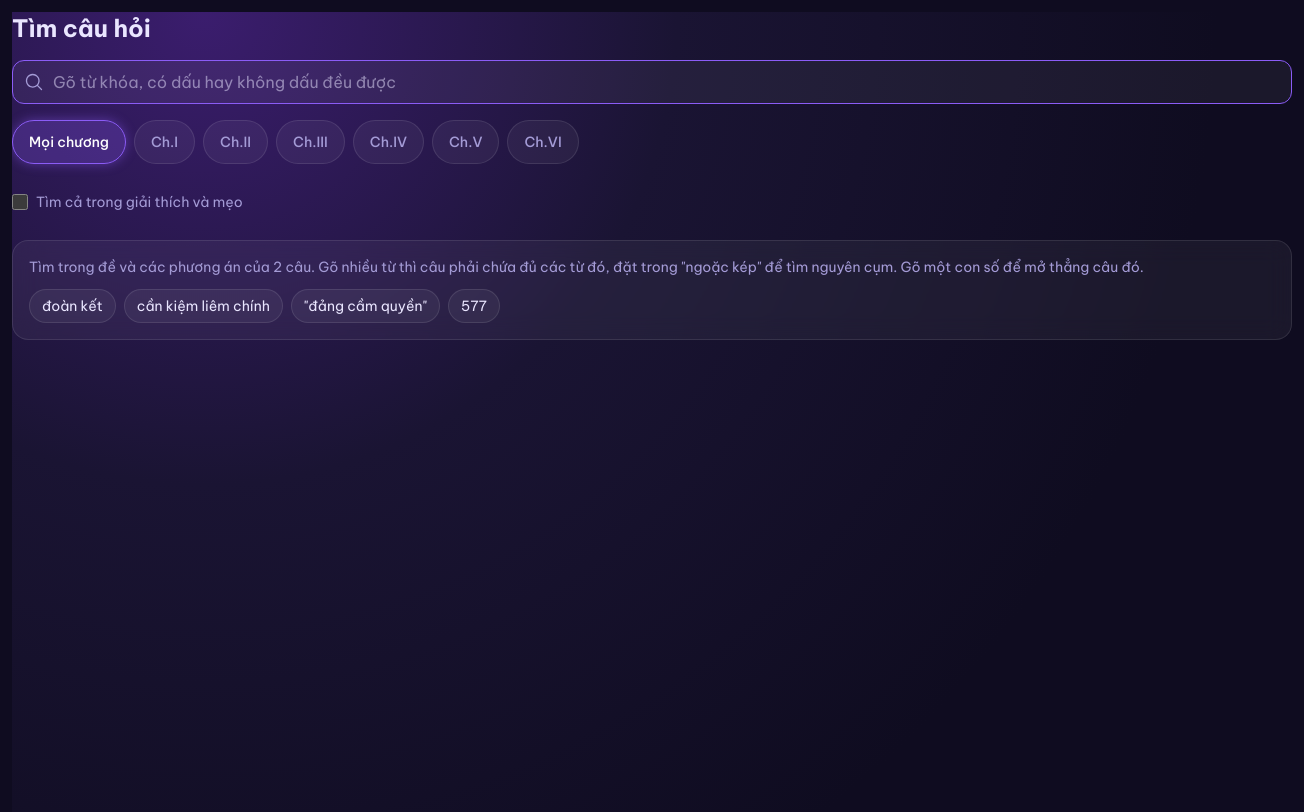
Test: tìm không dấu, hiện đáp án đúng, mở giải thích, nhảy sang câu dễ nhầm
The width and height of the screenshot is (1304, 812).
In the search field named "Từ khóa tìm kiếm": (652, 82) [12,60,1292,104], type "doan ket"
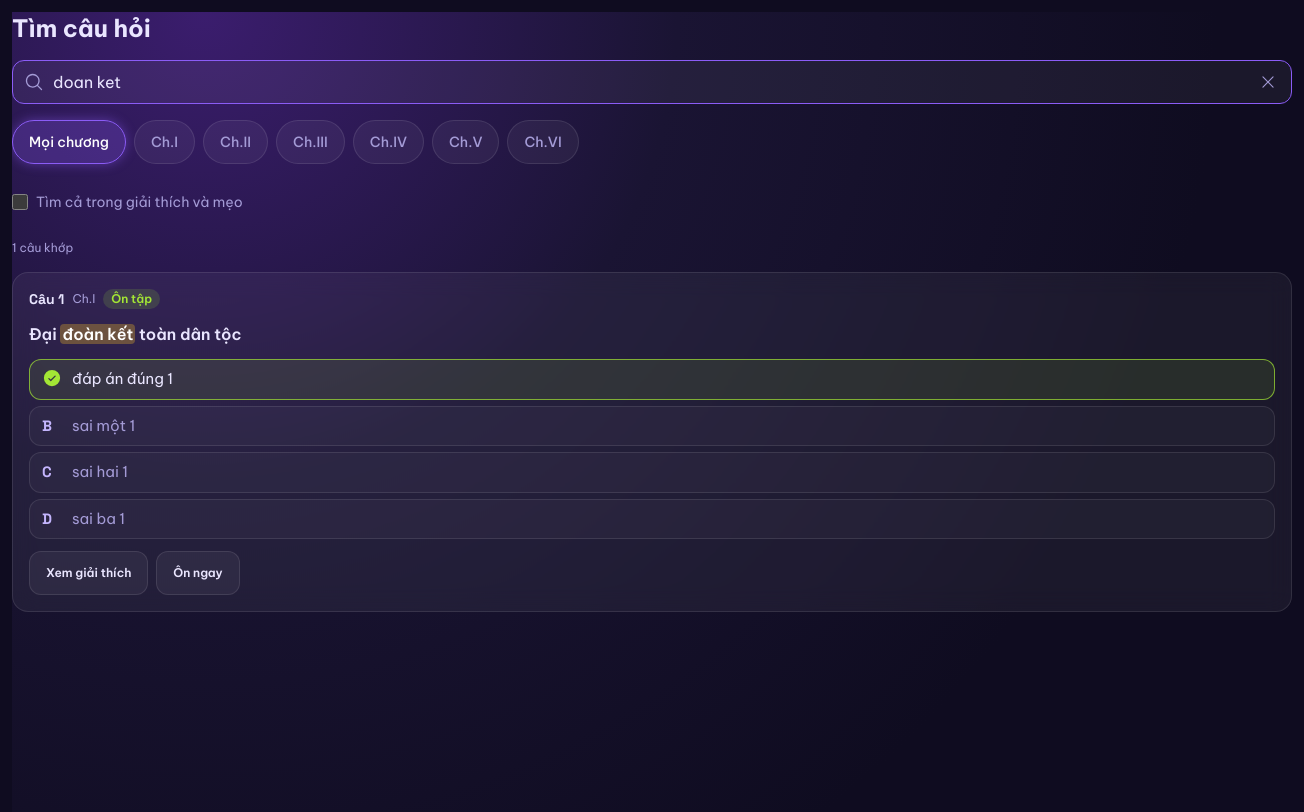
Expected: the text "đoàn kết" is shown, [60,324,135,344]
Expected: the text "1 câu khớp" is shown, [12,240,73,255]
Expected: the icon named "Đáp án đúng" is shown, [42,368,62,388]
Click the button "Xem giải thích": (89, 573) [29,551,148,595]
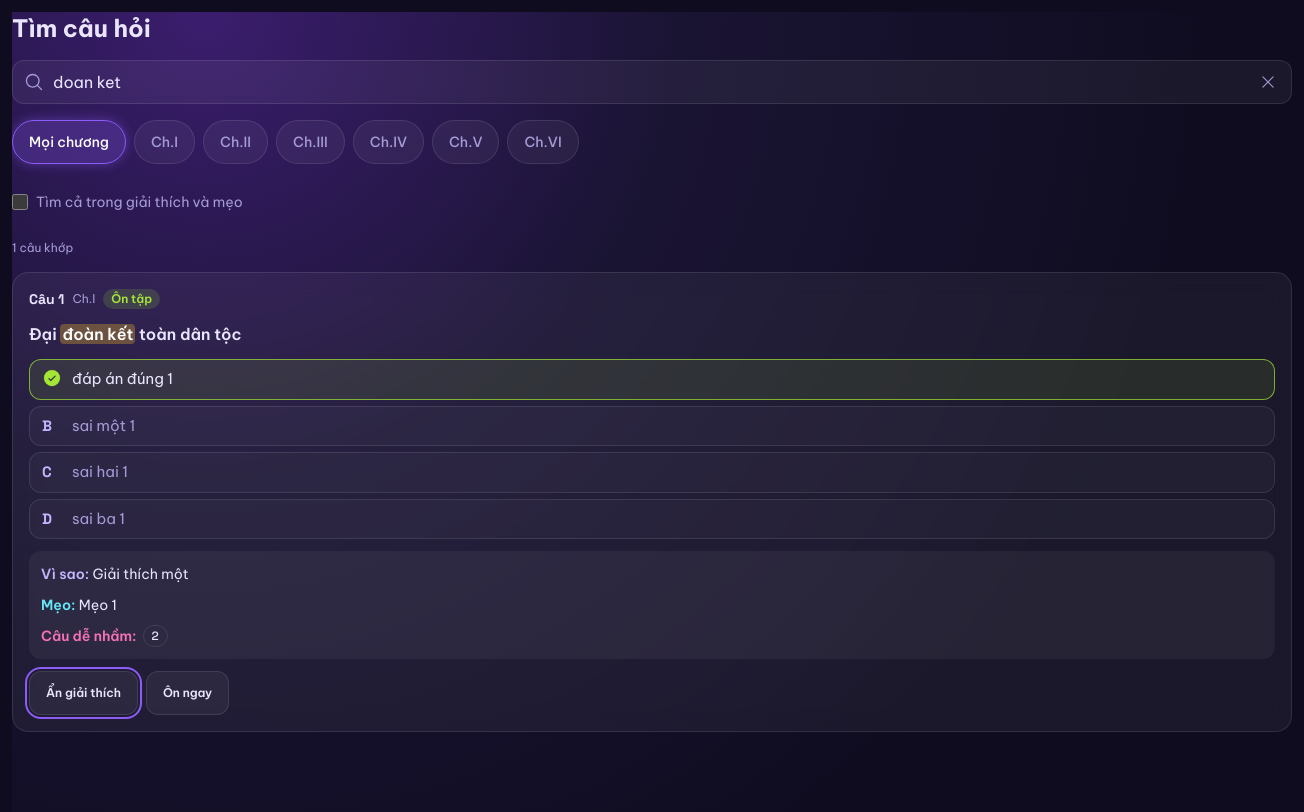
Expected: the text "Giải thích một" is shown, [92,565,189,583]
Click the button "2": (155, 636) [142,625,168,647]
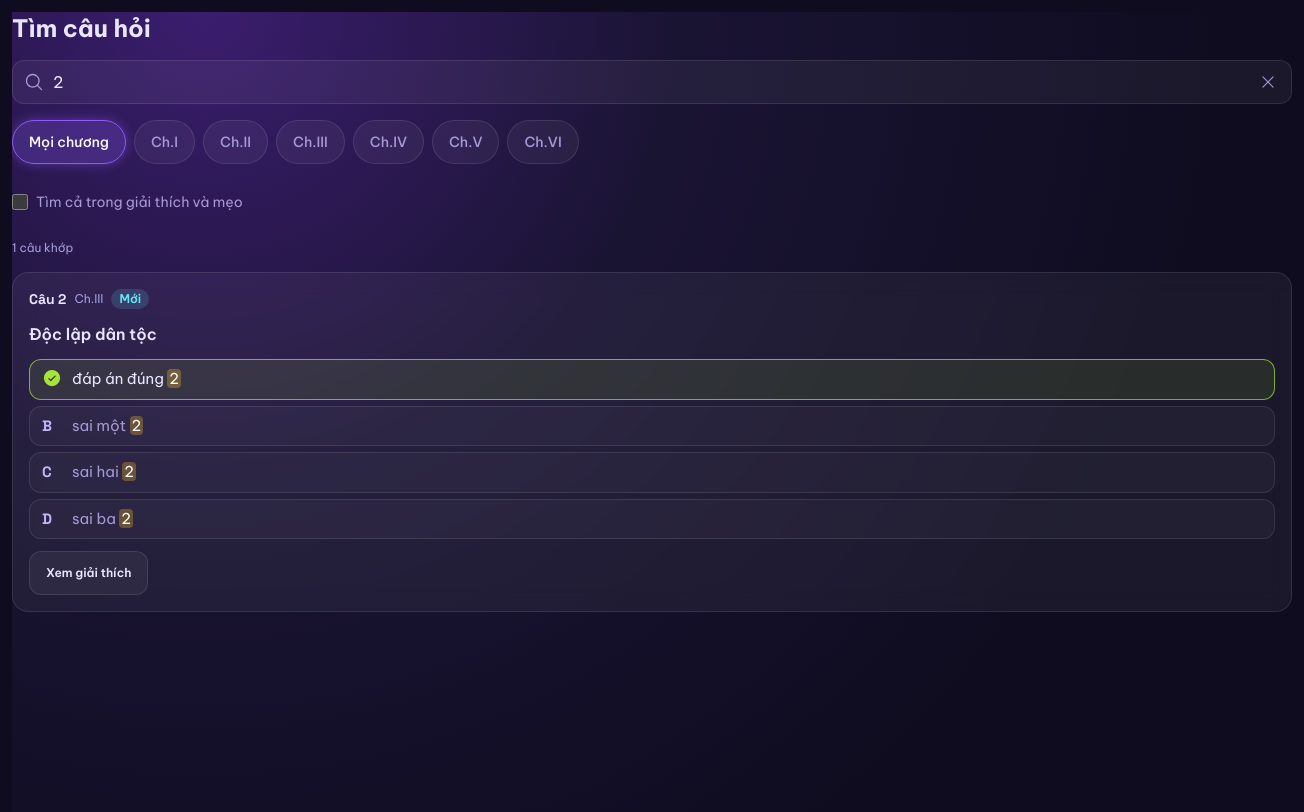
Expected: the text "Độc lập dân tộc" is shown, [29,324,157,344]
